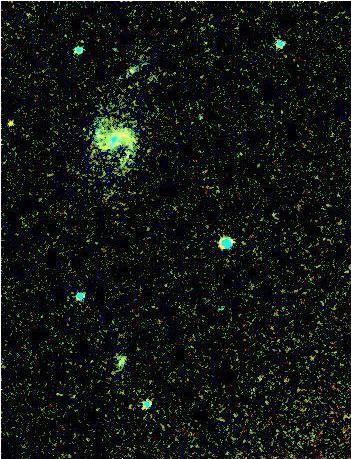star: (0, 105, 29, 135)
